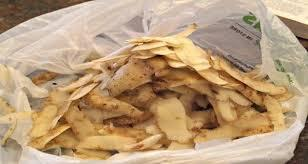Organic: (21, 29, 308, 146)
